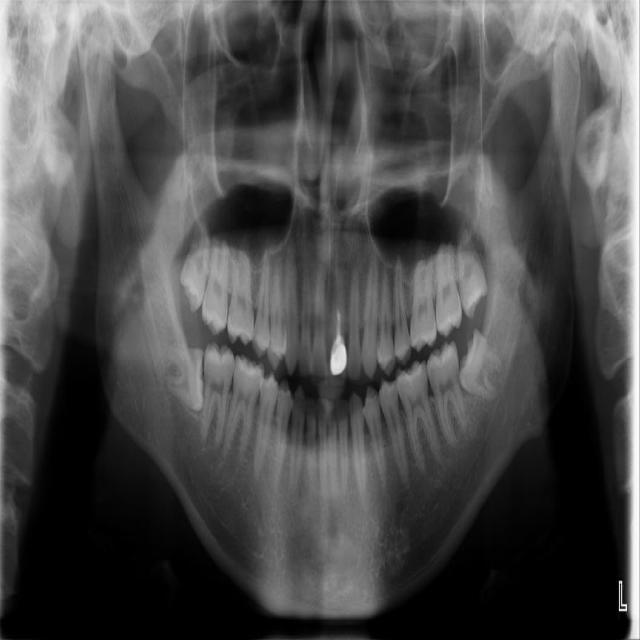Crown: (329, 337, 347, 375)
Root Canal Treatment: (334, 296, 339, 335)
impacted tooth: (457, 329, 512, 400), (154, 340, 204, 408)
